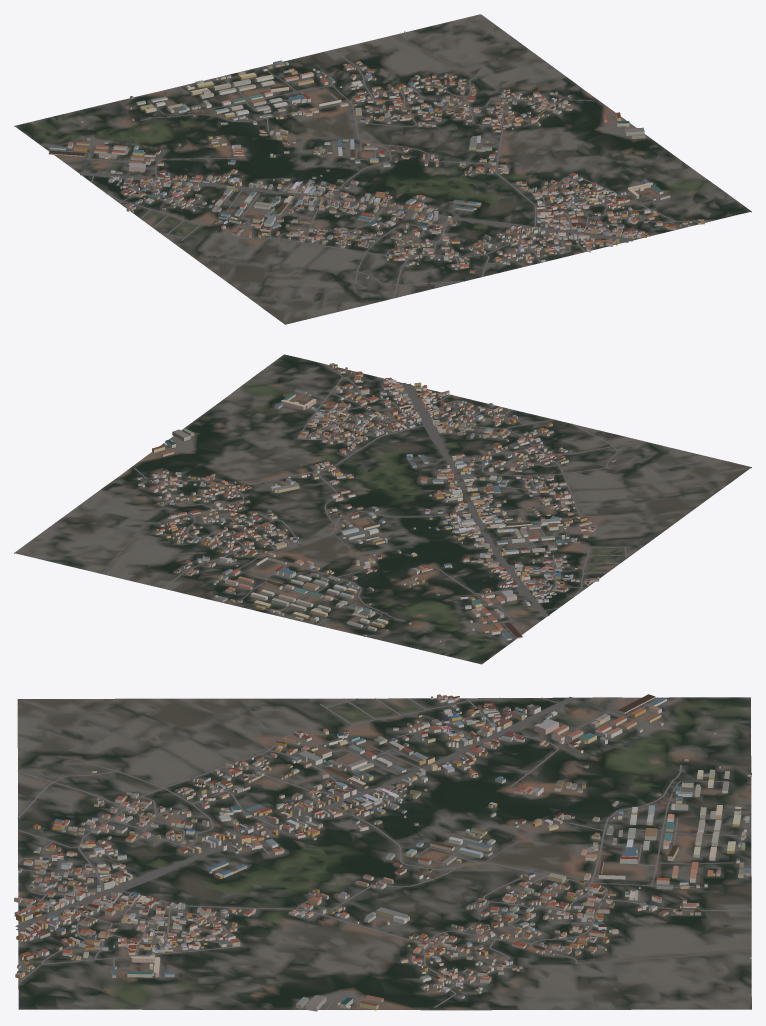
The picture shows the model from 3 angles, top to bottom: view 1: azimuth 30°, elevation 25°; view 2: azimuth 150°, elevation 25°; view 3: azimuth 270°, elevation 25°; orthographic projection. The views are drawn at different scales.
Parts seen in each view (by area): view 1: ground, buildings, roads; view 2: ground, buildings, roads; view 3: ground, buildings, roads.
Part boxes in pixels (x1=…): ground: x1=14, y1=14, x2=751, y2=324; buildings: x1=48, y1=31, x2=704, y2=278; roads: x1=14, y1=35, x2=712, y2=298; ground: x1=14, y1=354, x2=751, y2=664; buildings: x1=90, y1=363, x2=615, y2=641; roads: x1=101, y1=363, x2=642, y2=664; ground: x1=17, y1=697, x2=751, y2=1010; buildings: x1=14, y1=694, x2=751, y2=1011; roads: x1=15, y1=697, x2=751, y2=1009.
Bounding box in the file's own units: 1414 × 26.08 × 1411.
